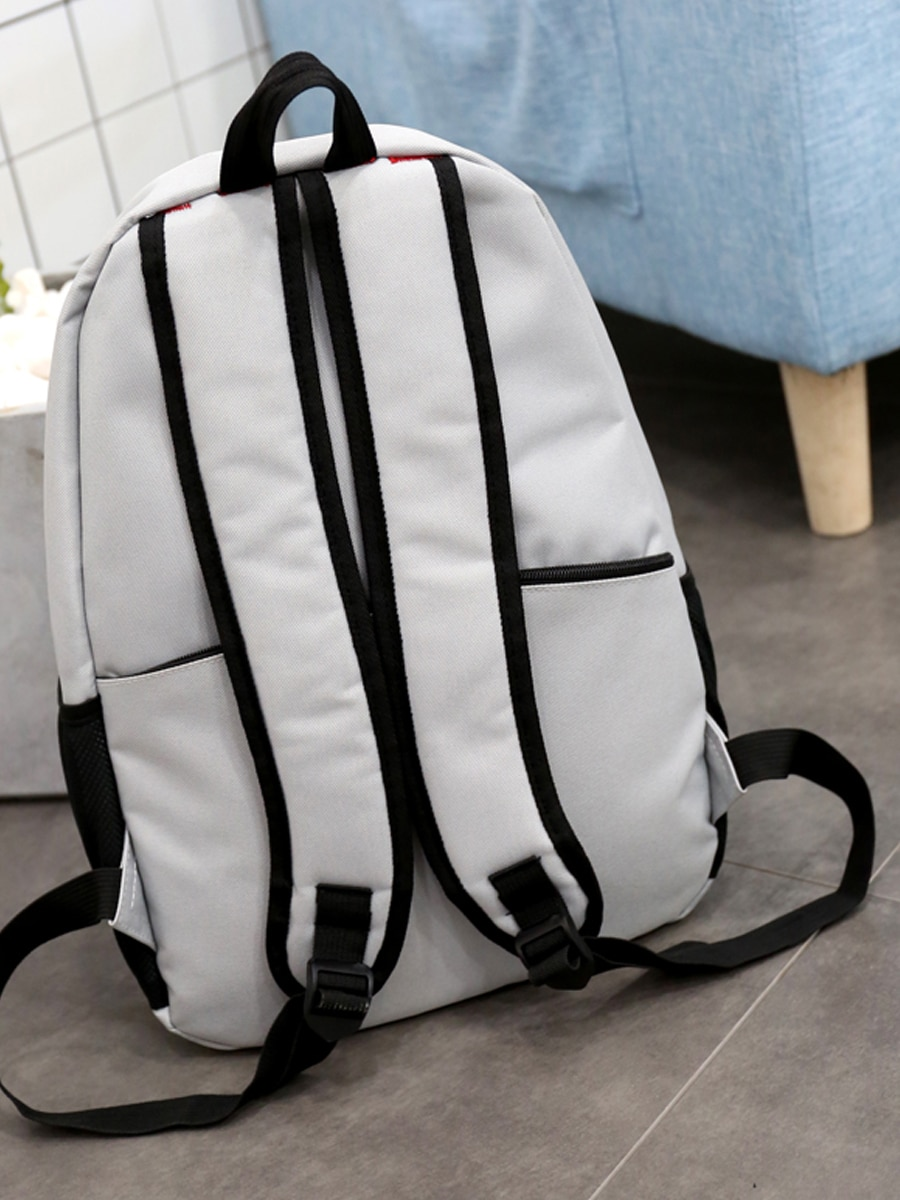Men's Backpacks: (1, 47, 881, 1137)
